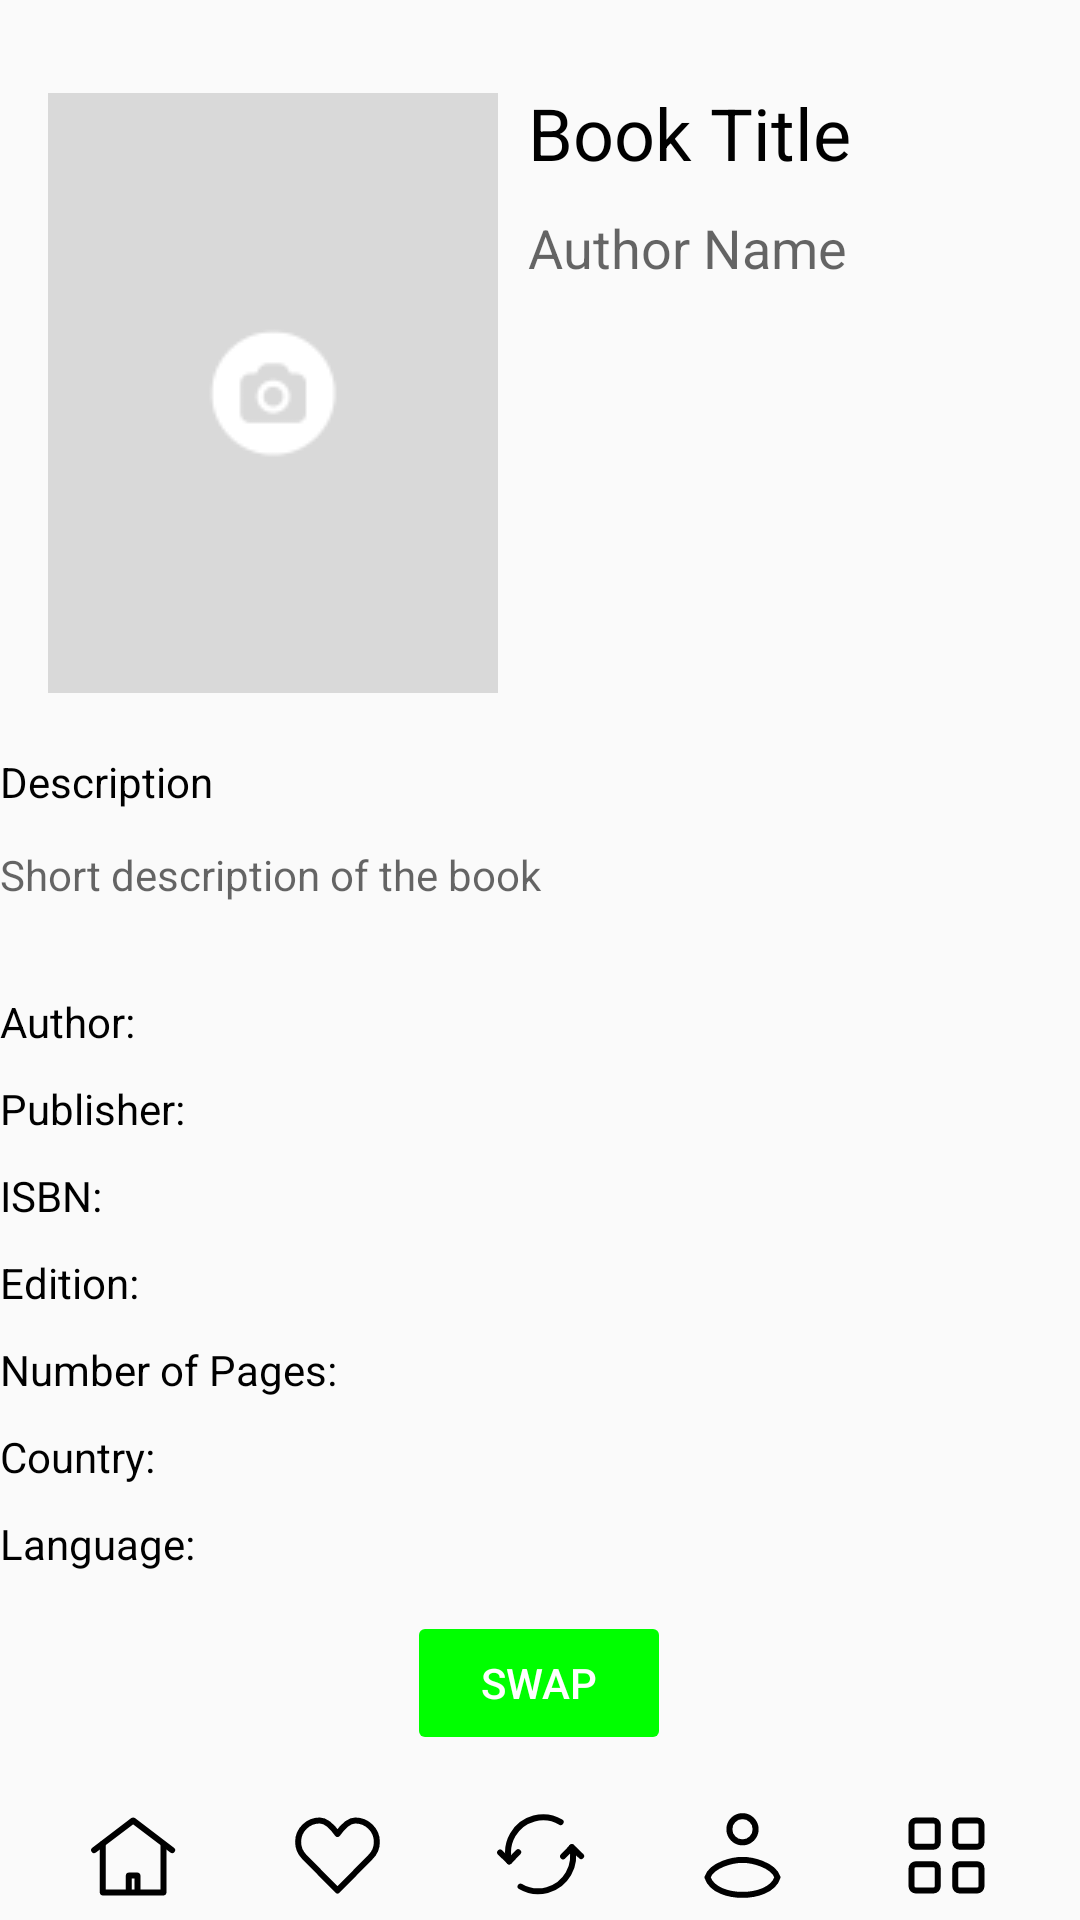

Where to tap for icons on this 1080x1920 app screen, as point (x, y):
favorite: point (337, 1855)
home: point (133, 1856)
menu: point (946, 1855)
user: point (742, 1855)
